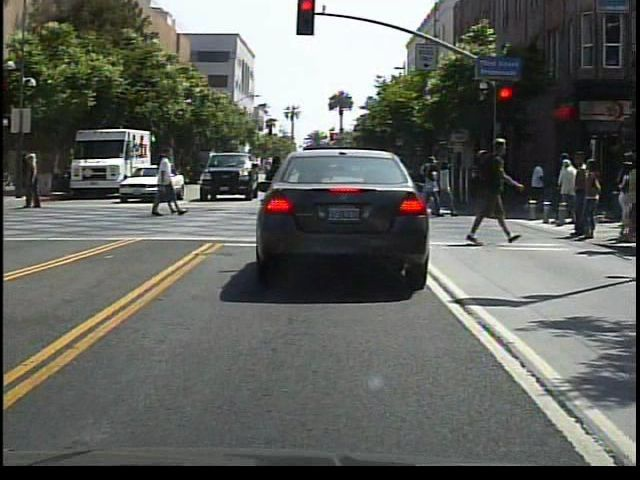person: (463, 132, 517, 250), (147, 149, 183, 226), (250, 155, 283, 214), (553, 154, 578, 226), (20, 150, 47, 214), (527, 155, 547, 221)
